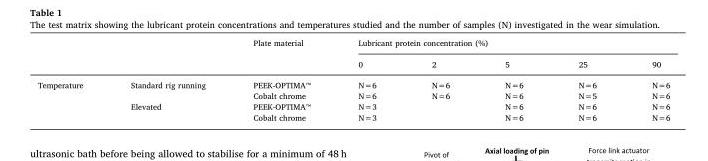table: (36, 37, 669, 121)
table column: (106, 37, 228, 121), (228, 37, 333, 121), (476, 37, 550, 121), (403, 37, 476, 121), (550, 37, 623, 121), (36, 37, 106, 121), (333, 37, 403, 121), (623, 37, 669, 121)
table column header: (36, 37, 669, 73)
table row: (36, 52, 669, 73), (36, 73, 669, 89), (36, 37, 669, 52), (36, 89, 669, 100), (36, 100, 669, 111), (36, 111, 669, 121)
table spanning cell: (333, 37, 669, 52), (228, 37, 333, 73), (36, 73, 106, 121), (106, 73, 228, 100), (106, 100, 228, 121)
